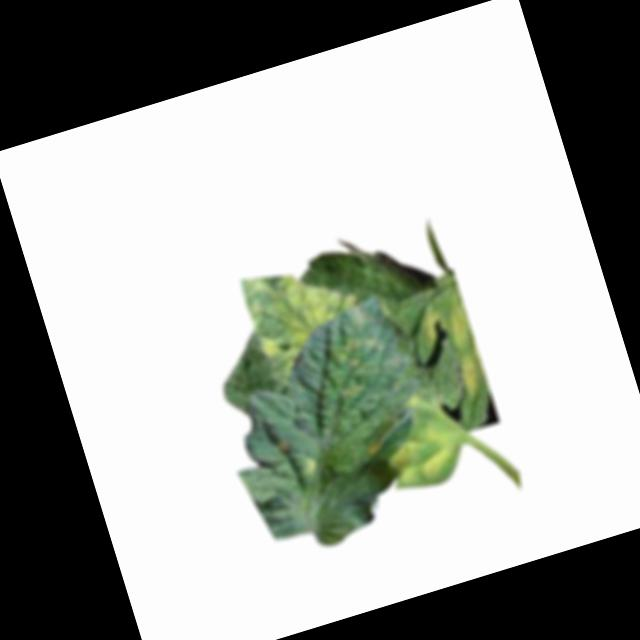Leaf_Mold: (238, 248, 371, 378), (380, 418, 464, 495), (319, 302, 394, 375), (451, 350, 489, 404), (444, 302, 477, 354), (334, 370, 373, 404), (421, 307, 450, 343), (359, 432, 385, 459), (298, 452, 319, 480)
